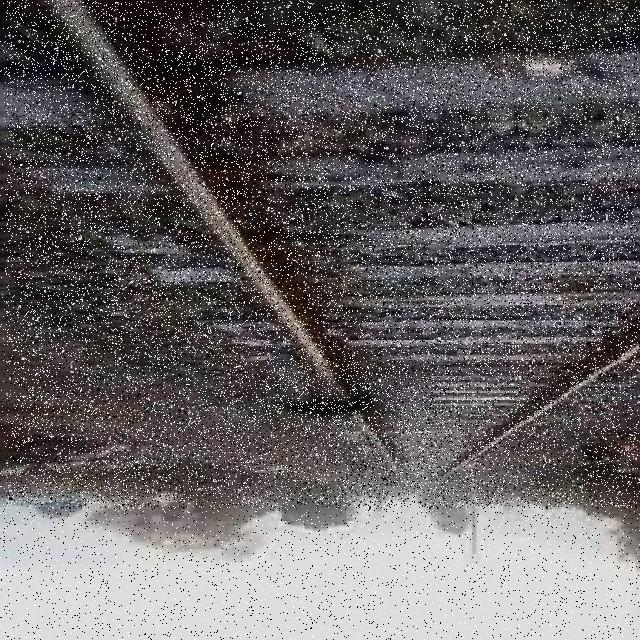danger: (248, 364, 430, 431)
rail: (6, 1, 640, 508)
